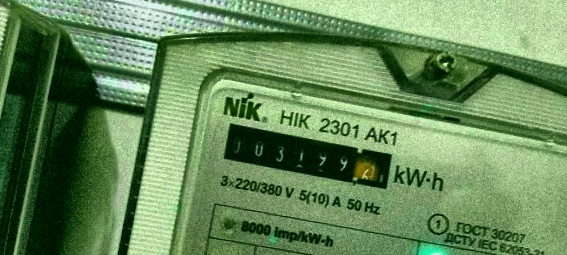0: (228, 132, 243, 155), (251, 136, 265, 157)
1: (294, 142, 307, 162)
3: (272, 142, 286, 162)
6: (359, 164, 371, 181)
9: (335, 151, 349, 172), (315, 146, 328, 167)
screen: (214, 117, 402, 197)
